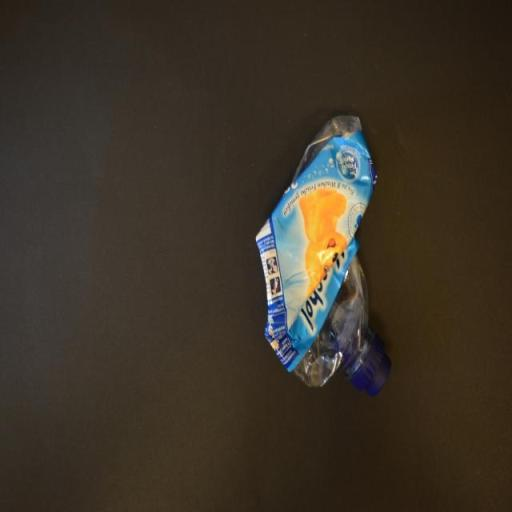plastic: (256, 112, 392, 396)
